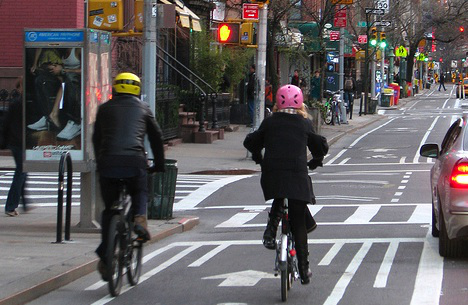bikerider: (80, 67, 173, 296), (242, 78, 335, 301)
